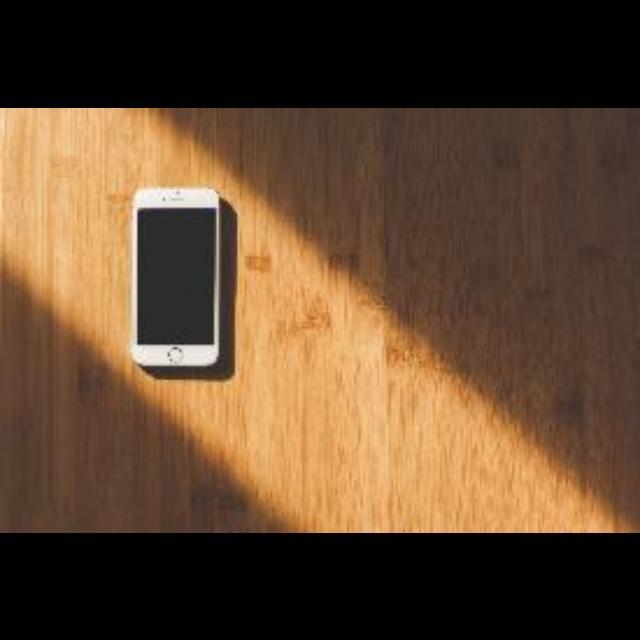Phone: (131, 184, 219, 370)
